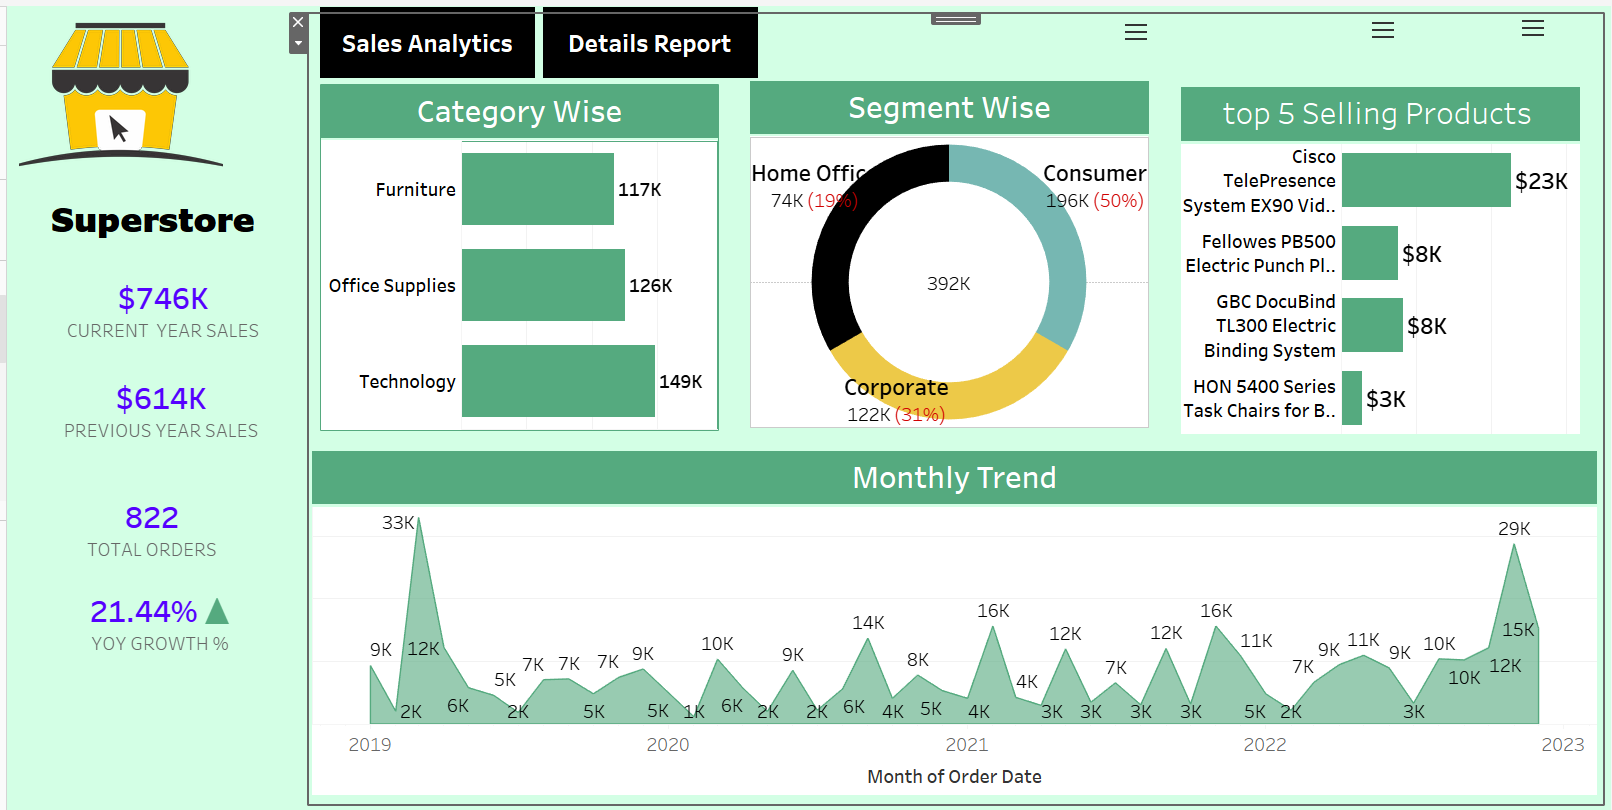

The dashboard page shown, as its layout file describes it:
{"tool":"tableau","page":{"name":"Sales Analytics","canvas":[1000,1000],"units":"permille","ordinal":1},"visuals":[{"type":"dashboard-object","box":[195.4,1.2,134.2,88.1]},{"type":"dashboard-object","box":[334,1.2,134.2,88.1]},{"type":"image","param":"Image/Picture1.png","box":[5,9.9,180.4,980.1]},{"type":"blank","box":[188.5,9.9,806.5,980.1]},{"type":"filter","title":"region","param":"[federated.1py2gox17ka1810zonlt91vb55tv].[none:Region:nk]","box":[733.5,11.2,112.4,68.2]},{"type":"filter","title":"category wise sales","param":"[federated.1py2gox17ka1810zonlt91vb55tv].[none:Category:nk]","box":[849.6,12.4,99.9,76.9]},{"type":"dashboard-object","box":[943.8,12.4,15,29.8]},{"type":"dashboard-object","box":[850.2,14.9,15,29.8]},{"type":"dashboard-object","box":[696.6,17.4,15,29.8]},{"type":"worksheet","title":"segment wise sales ","mark":"Pie","rows":["Calculation_130041488963006465","Calculation_130041488963026947"],"box":[463.2,93,249.1,430.5]},{"type":"worksheet","title":"category wise sales","mark":"Automatic","rows":["Category"],"cols":["Sales"],"box":[195.4,96.8,249.1,430.5]},{"type":"worksheet","title":"top 5 Selling Products ","mark":"Automatic","rows":["Product Name"],"cols":["Sales"],"box":[732.2,100.5,249.1,430.5]},{"type":"worksheet","title":"region","mark":"Automatic","rows":["Region"],"box":[540.6,137.7,4.4,13.7]},{"type":"text","box":[9.4,230.8,163.6,68.2]},{"type":"worksheet","title":"kpi current yr","mark":"Automatic","rows":["Order Date"],"box":[19.4,313.9,156.1,124.1]},{"type":"worksheet","title":"kpi pre yr","mark":"Automatic","rows":["Order Date"],"box":[18.1,438,156.1,124.1]},{"type":"worksheet","title":"Monthly Trend","mark":"Area","rows":["Sales"],"cols":["Order Date"],"box":[190.4,552.1,800.9,426.8]},{"type":"worksheet","title":"KPI TOTAL ORDERS","mark":"Automatic","box":[12.5,585.6,156.1,124.1]},{"type":"worksheet","title":"KPI YOY GROWTH ","mark":"Automatic","cols":["Order Date"],"box":[17.5,702.2,156.1,124.1]}]}

Visuals, with their boxes on the dashboard's canvas, which has no fixed pixel size, in thousandths of its width and height (x1, y1, x2, y2). These are canvas units, not pixel positions in the 1612x810 screenshot, which may show the page scaled, cropped or inside an application window:
dashboard-object: [195,1,330,89]
dashboard-object: [334,1,468,89]
image: [5,10,185,990]
blank: [188,10,995,990]
"region" filter: [734,11,846,79]
"category wise sales" filter: [850,12,950,89]
dashboard-object: [944,12,959,42]
dashboard-object: [850,15,865,45]
dashboard-object: [697,17,712,47]
"segment wise sales " worksheet (Pie marks): [463,93,712,524]
"category wise sales" worksheet: [195,97,444,527]
"top 5 Selling Products " worksheet: [732,100,981,531]
"region" worksheet: [541,138,545,151]
text: [9,231,173,299]
"kpi current yr" worksheet: [19,314,176,438]
"kpi pre yr" worksheet: [18,438,174,562]
"Monthly Trend" worksheet (Area marks): [190,552,991,979]
"KPI TOTAL ORDERS" worksheet: [12,586,169,710]
"KPI YOY GROWTH " worksheet: [18,702,174,826]
